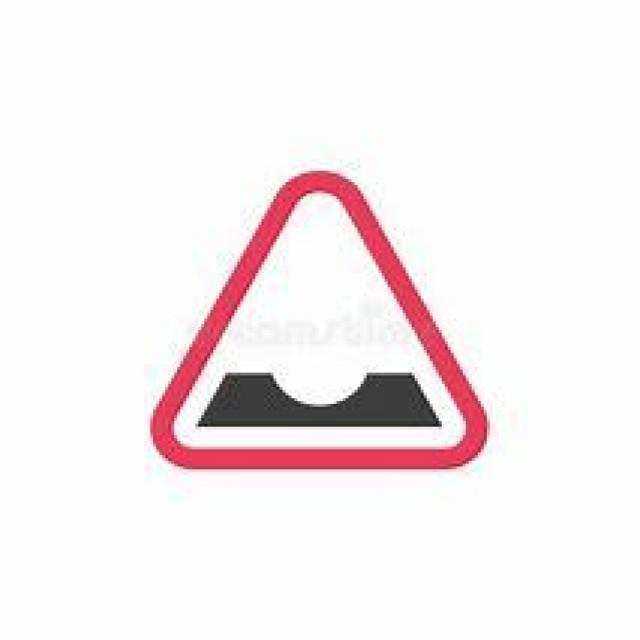DANGEROUS_DIP: (147, 168, 484, 469)
